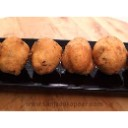bonda: (97, 37, 128, 76), (1, 36, 30, 74), (65, 38, 94, 76), (34, 37, 62, 73)
